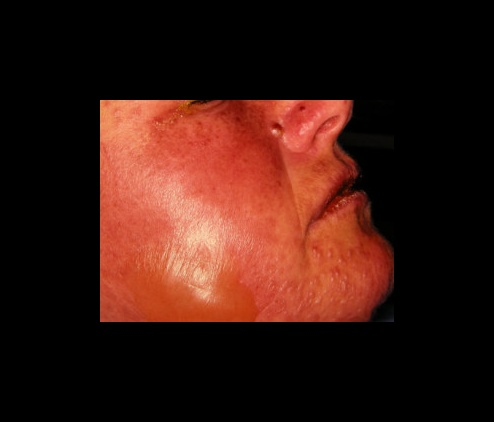SJS-TEN: (111, 225, 395, 332), (291, 161, 374, 237), (135, 98, 206, 149)
